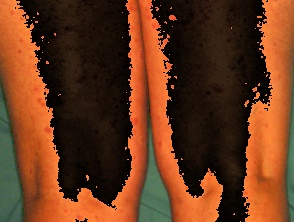SJS-TEN: (1, 0, 151, 202), (143, 3, 271, 192)
